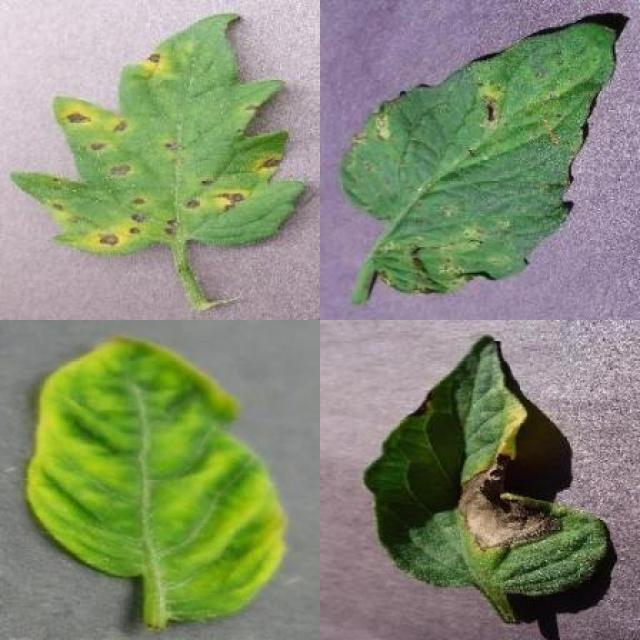Early Blight: (365, 336, 608, 598)
Septoria: (341, 22, 616, 294), (15, 15, 309, 258)
Yellow Leaf Curl Virus: (27, 334, 287, 624)
